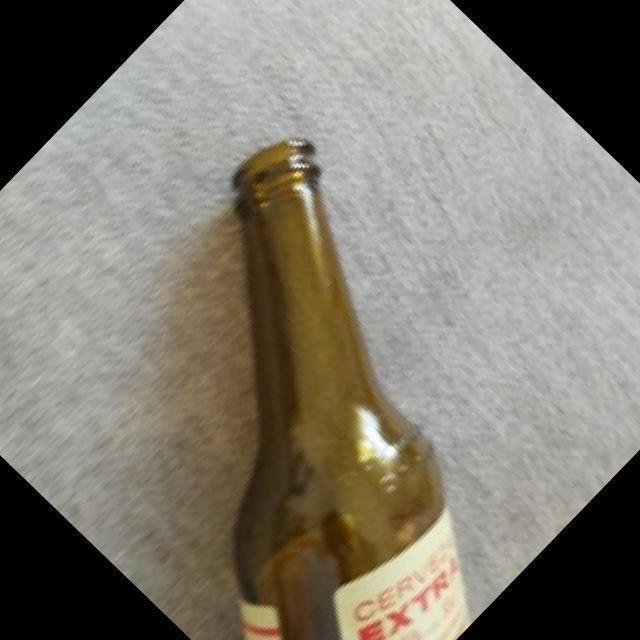BotolKaca: (226, 135, 471, 639)
